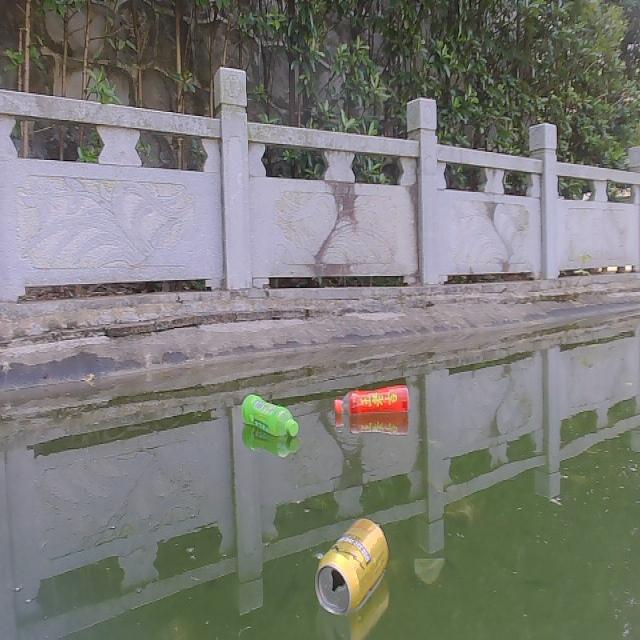bottle: (238, 388, 299, 443), (331, 381, 410, 420)
can: (309, 512, 391, 617)
